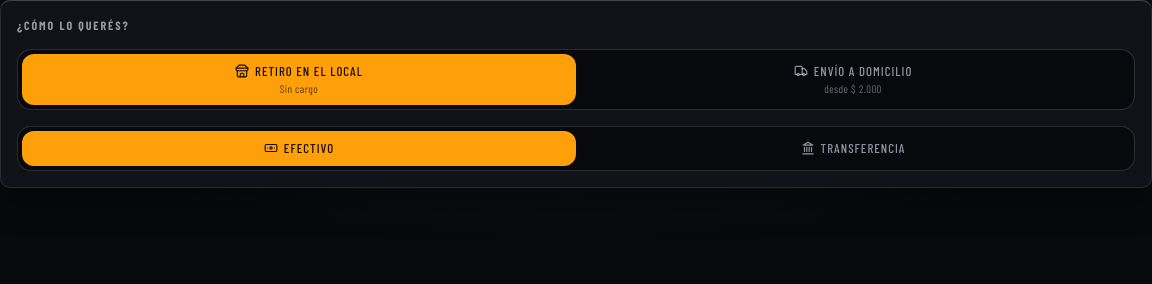
Scenario: OrderPreferences › shows the delivery zone picker only while fulfillmentType === 'delivery'
This screenshot has width=1152, height=284.
Check: the field labelled "zona de envío" is not shown
Press the mouse on the tab "Envío a domicilio desde $ 2.000": (853, 80) [576,54,1130,105]
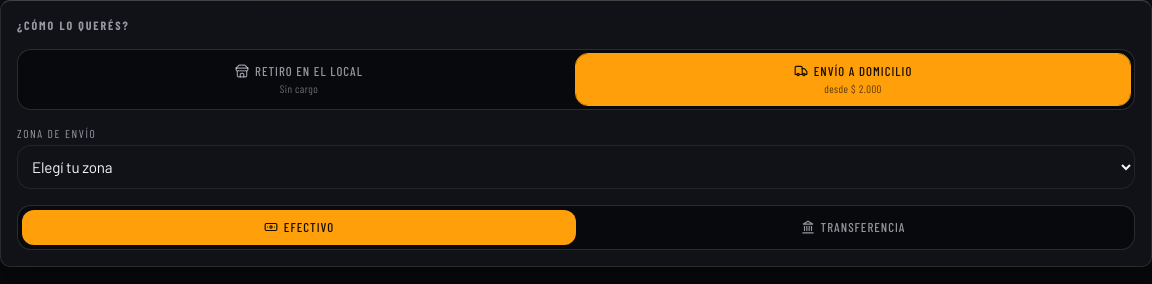
Check: the dropdown labelled "Zona de envío" is shown, box [17,145,1135,189]
Press the mouse on the tab "Retiro en el local Sin cargo": (299, 80) [22,54,576,105]
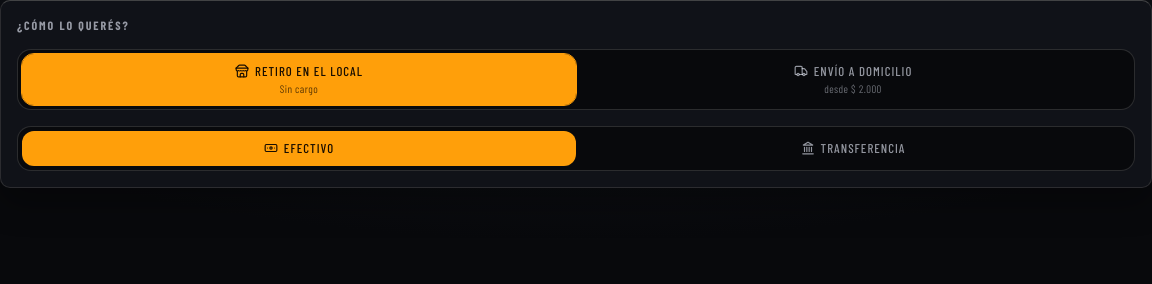
Check: the label labelled "Zona de envío" is gone
